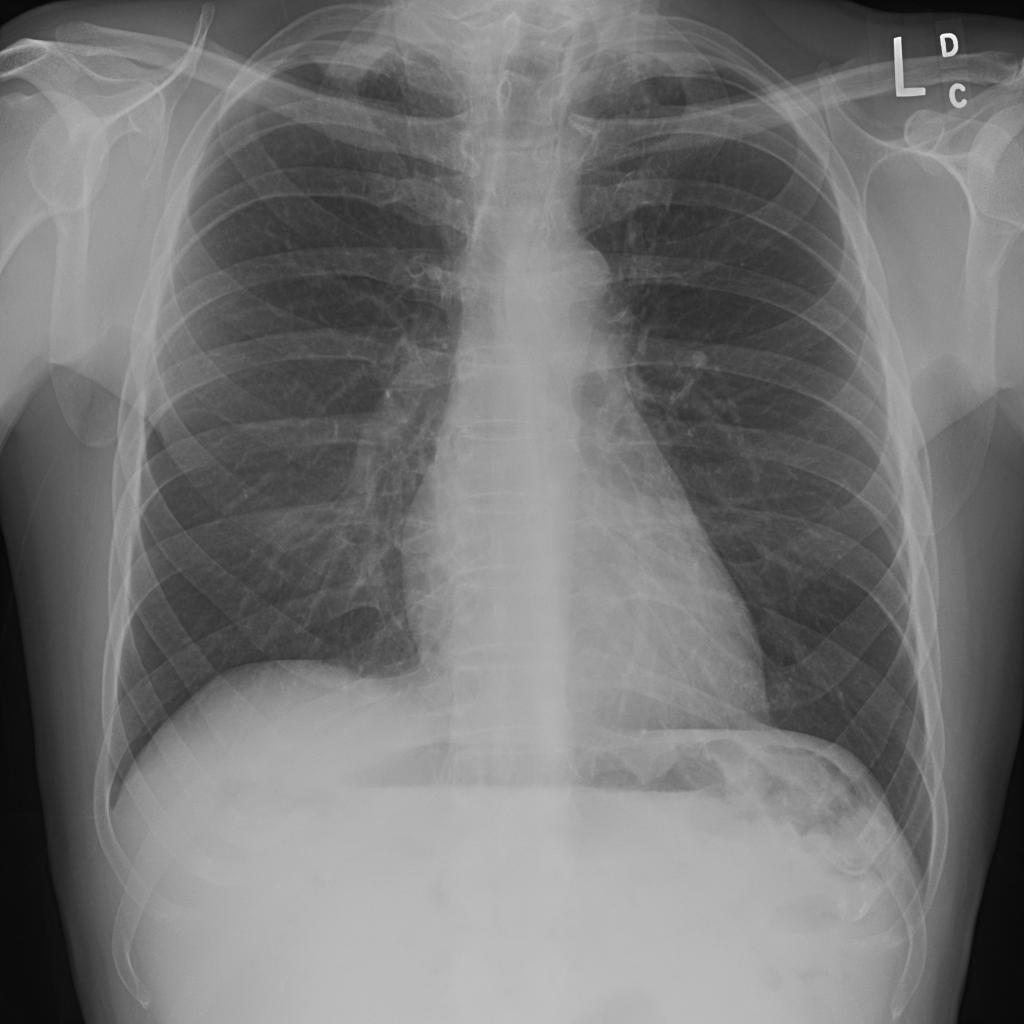Nodule: (147, 127, 175, 155), (142, 164, 169, 191), (303, 173, 329, 199), (340, 169, 367, 194)
